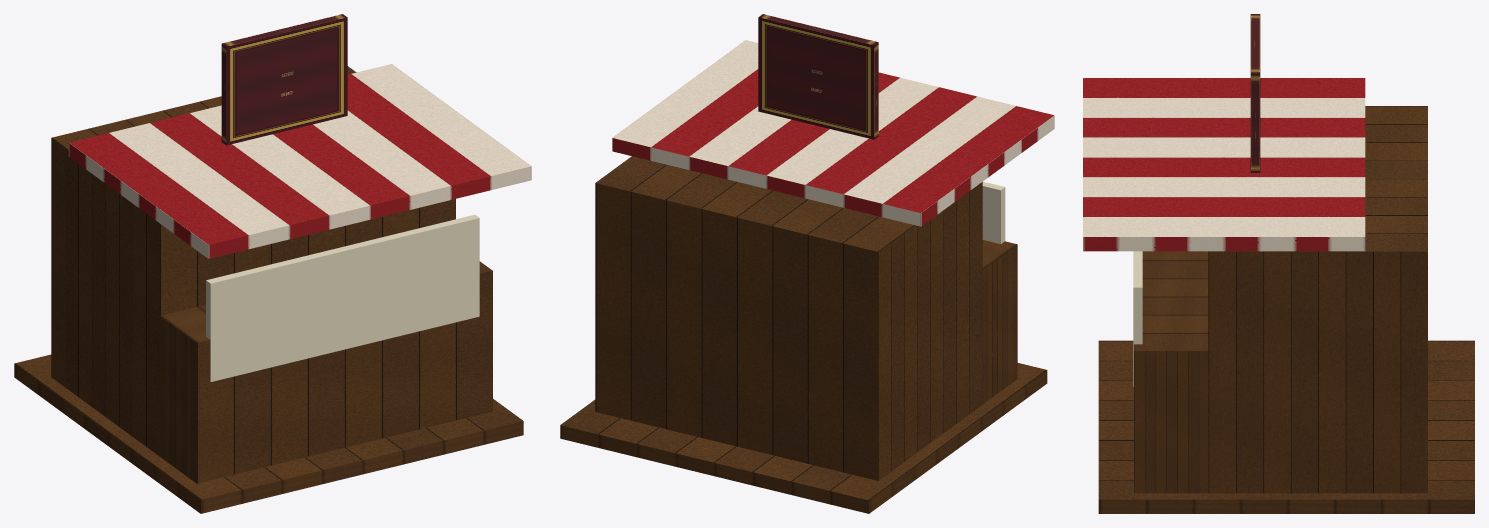
The model's file is booth_ring.glb.
The picture shows the model from 3 angles, left to right: view 1: azimuth 30°, elevation 25°; view 2: azimuth 150°, elevation 25°; view 3: azimuth 270°, elevation 25°; orthographic projection. The views are drawn at different scales.
Visible parts, largest first — view 1: base, sign; view 2: base, sign; view 3: base, sign.
Part boxes in pixels (box(x1,y1,x2,y2)): base: box(14, 64, 531, 513); sign: box(221, 14, 347, 145); base: box(560, 40, 1054, 513); sign: box(758, 14, 878, 139); base: box(1083, 78, 1474, 513); sign: box(1250, 14, 1260, 172).
Bounding box in the file's own units: 2.4 × 2.75 × 2.5.
Materials: 6 (4 with a texture image).
